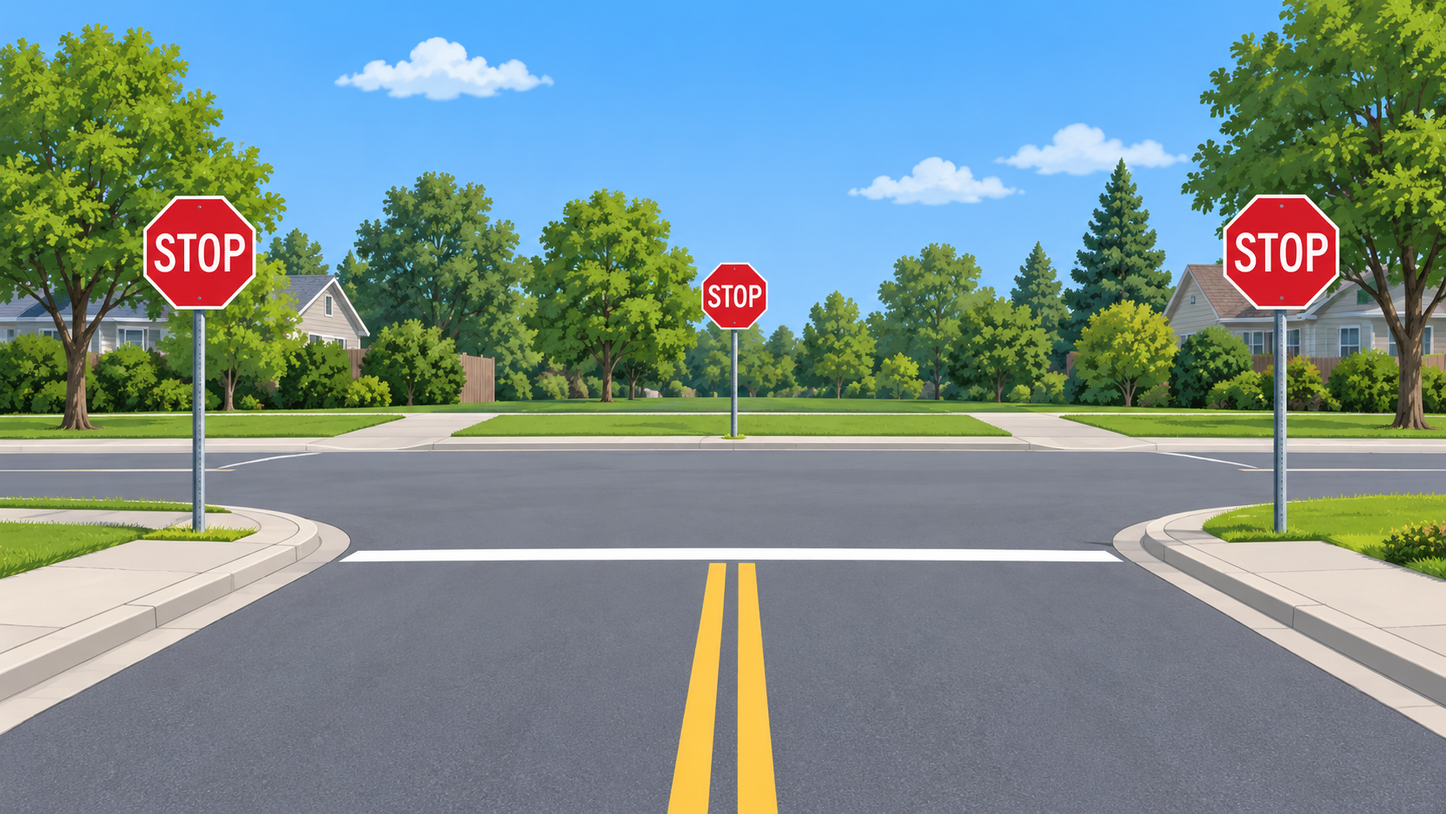stop_sign: (1224, 197, 1340, 309), (144, 197, 257, 310), (701, 265, 768, 330)
